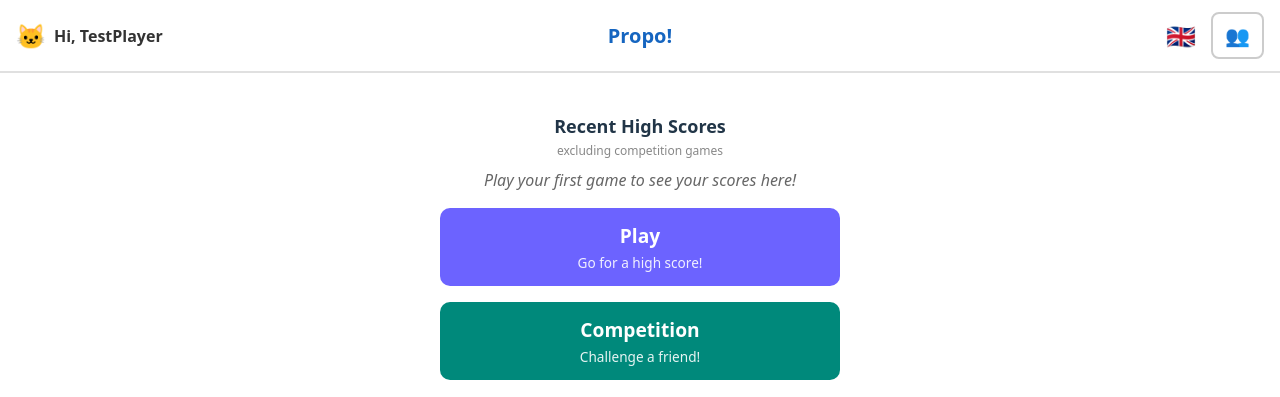
Scenario: MainPage › submitting answer shows feedback
Step 1. Click the button "Play Go for a high score!" → (640, 247), box [440,208,840,286]
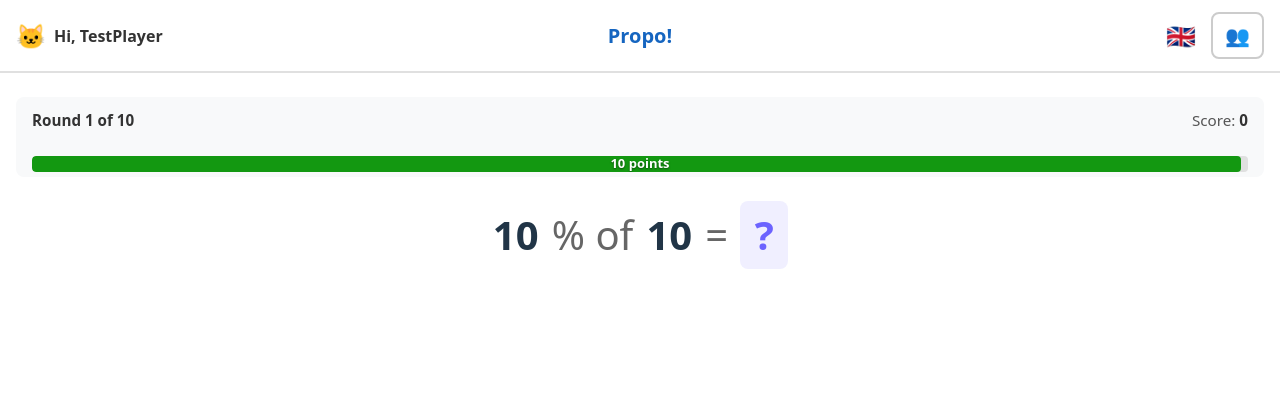
Step 2. Type keys "1{Enter}"
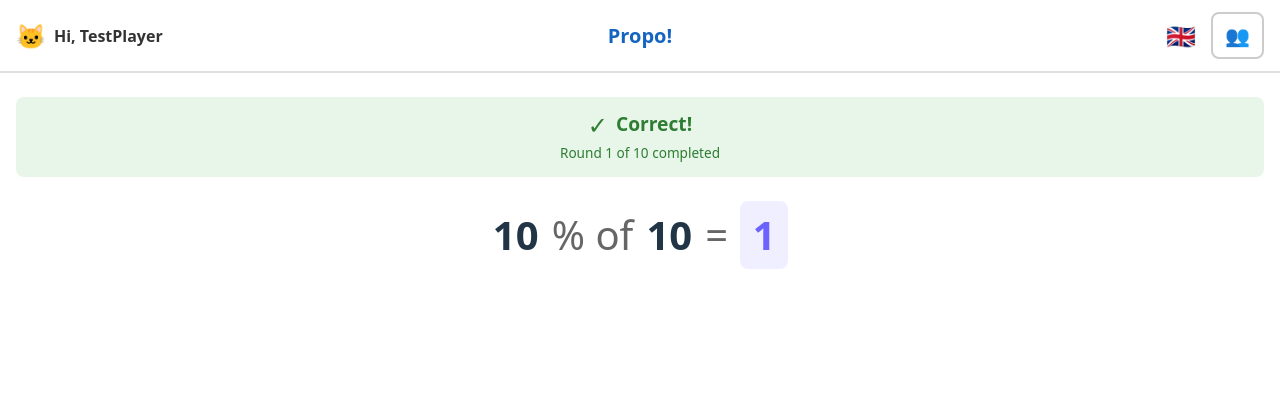
Check: the text "Correct!" is shown, box [616,110,692,139]
